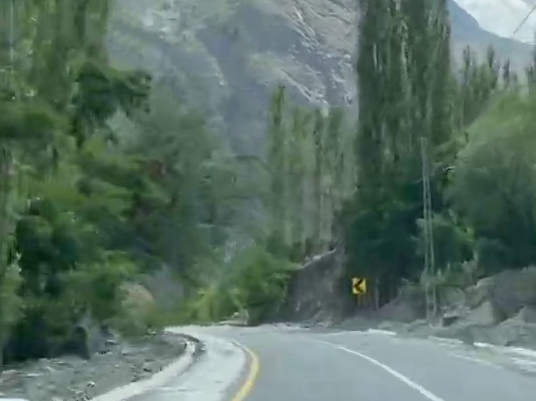right: (205, 276, 457, 399)
